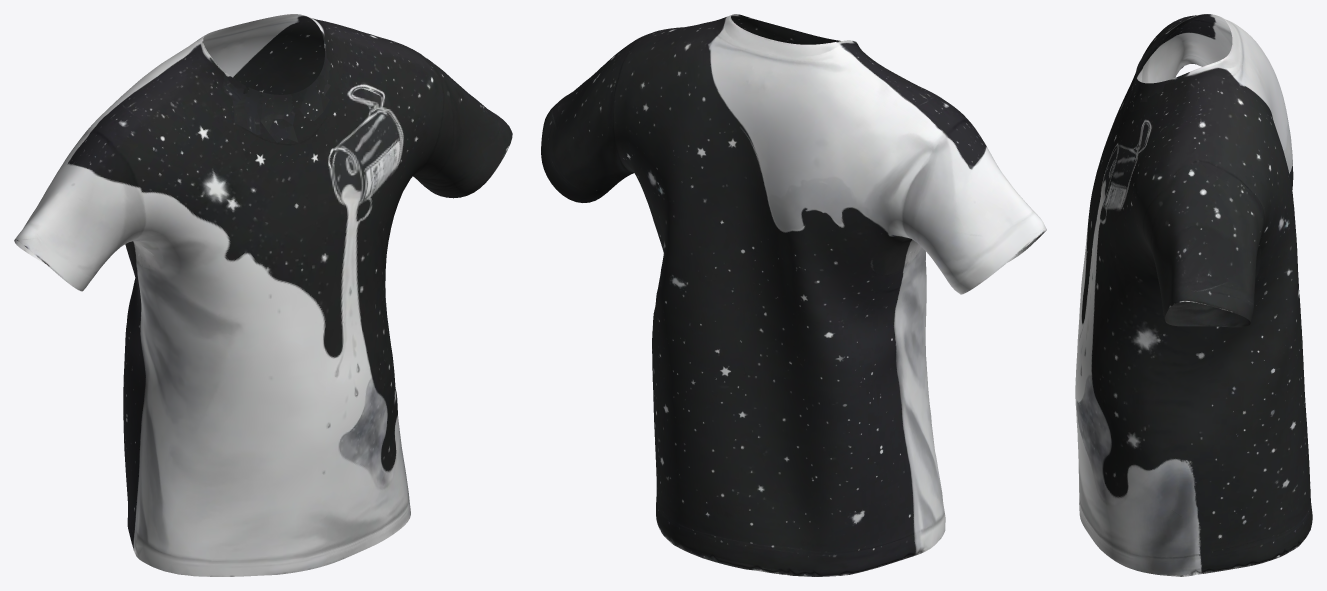
The model's file is Tshirt3.glb.
The picture shows the model from 3 angles, left to right: view 1: azimuth 30°, elevation 25°; view 2: azimuth 150°, elevation 25°; view 3: azimuth 270°, elevation 25°; orthographic projection. The views are drawn at different scales.
Parts seen in each view (by area): view 1: Mesh_0.002; view 2: Mesh_0.002; view 3: Mesh_0.002.
Boxes of the visible parts, box(x1,y1,x2,y2) form: Mesh_0.002: box(14, 14, 512, 576); Mesh_0.002: box(541, 14, 1046, 576); Mesh_0.002: box(1075, 14, 1312, 576).
Bounding box in the file's own units: 0.7353 × 0.7058 × 0.3166.
Materials: 1 (1 with a texture image).
